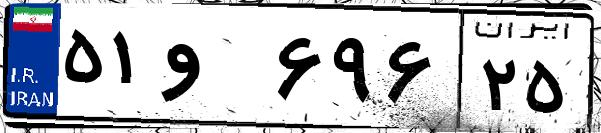1: (110, 28, 158, 98)
2: (475, 38, 525, 113)
5: (57, 26, 110, 100), (525, 38, 570, 115)
6: (270, 28, 330, 110), (385, 28, 445, 110)
9: (330, 28, 385, 110)
و: (158, 20, 270, 120)
